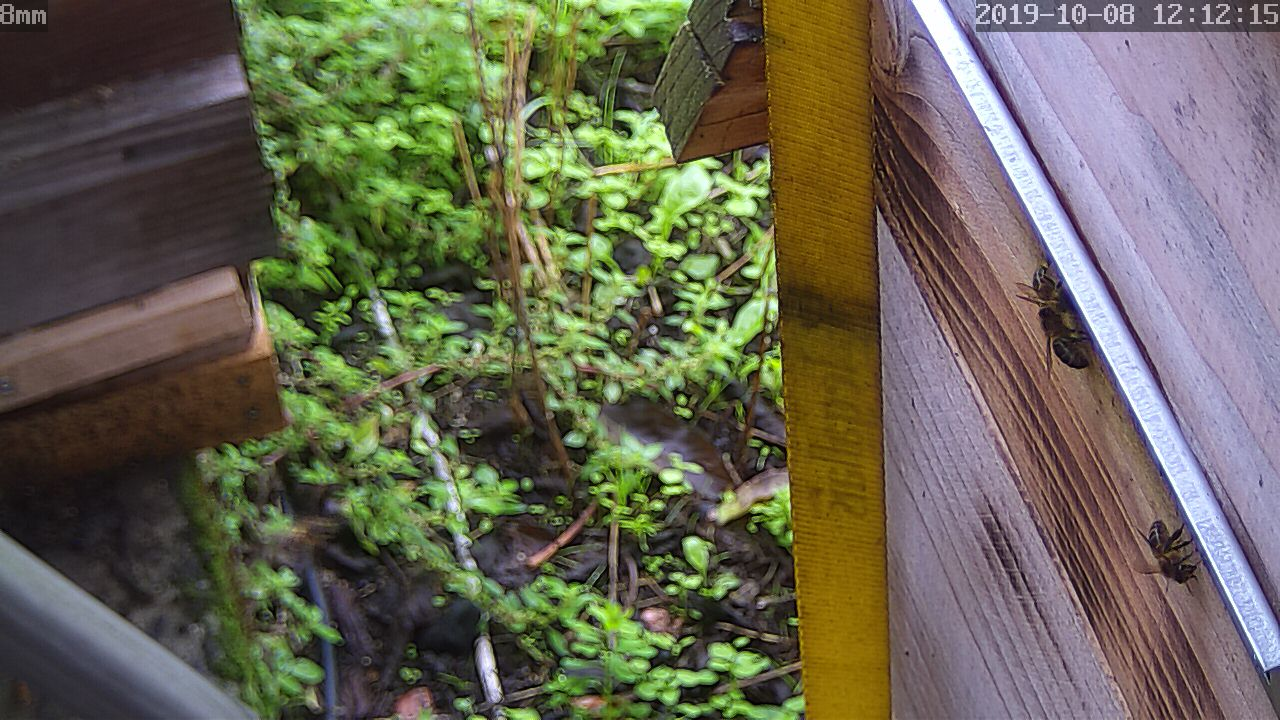bee: (1024, 263, 1083, 362), (1127, 512, 1199, 589)
